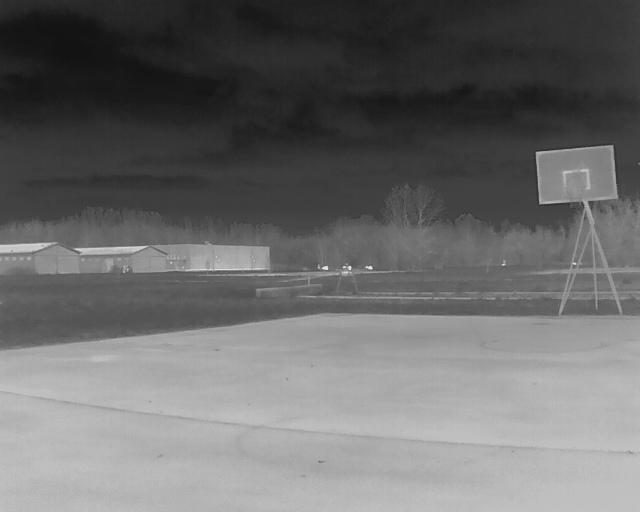drone: (308, 254, 383, 299)
